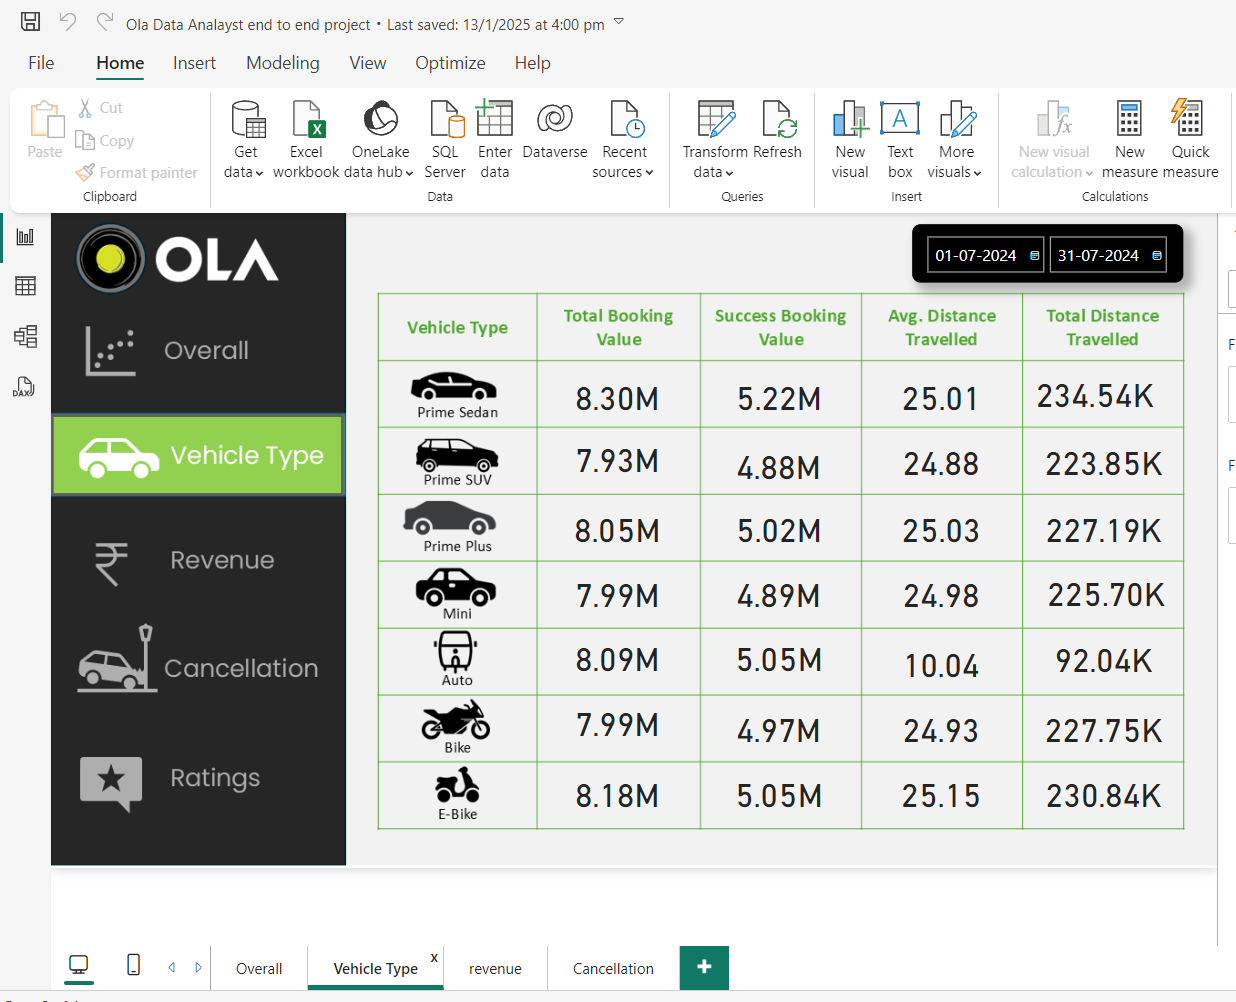

What the dashboard file says about the page in this screenshot:
{"tool":"powerbi","page":{"name":"Vehicle Type","canvas":[1280,720],"ordinal":1},"visuals":[{"type":"actionButton","box":[0,220.9,321.5,89.6],"z":0},{"type":"actionButton","box":[0,344.8,321.5,89.6],"z":1000},{"type":"actionButton","box":[0,451.5,321.5,89.6],"z":2000},{"type":"actionButton","box":[0,582.8,321.5,89.6],"z":3000},{"type":"actionButton","box":[0,111.7,321.5,89.6],"z":4000},{"type":"card","fields":{"Values":["Sum(Bookings-100000-Rows - July.Booking_Value)"]},"box":[715.5,165.3,168.2,71.3],"z":5000},{"type":"card","fields":{"Values":["Sum(Bookings-100000-Rows - July.Booking_Value)"]},"box":[537.4,233.8,168.2,71.3],"z":6000},{"type":"card","fields":{"Values":["Sum(Bookings-100000-Rows - July.Booking_Value)"]},"box":[537.4,310.7,168.2,71.3],"z":7000},{"type":"card","fields":{"Values":["Sum(Bookings-100000-Rows - July.Booking_Value)"]},"box":[537.4,382,168.2,71.3],"z":8000},{"type":"card","fields":{"Values":["Sum(Bookings-100000-Rows - July.Booking_Value)"]},"box":[537.4,451.8,168.2,71.3],"z":9000},{"type":"card","fields":{"Values":["Sum(Bookings-100000-Rows - July.Booking_Value)"]},"box":[537.4,523.1,168.2,71.3],"z":10000},{"type":"card","fields":{"Values":["Sum(Bookings-100000-Rows - July.Booking_Value)"]},"box":[537.4,601.5,168.2,71.3],"z":11000},{"type":"card","fields":{"Values":["Sum(Bookings-100000-Rows - July.Booking_Value)"]},"box":[537.4,165.3,168.2,71.3],"z":12000},{"type":"card","fields":{"Values":["Sum(Bookings-100000-Rows - July.Booking_Value)"]},"box":[715.5,239.5,168.2,71.3],"z":12001},{"type":"card","fields":{"Values":["Sum(Bookings-100000-Rows - July.Booking_Value)"]},"box":[715.5,310.7,168.2,71.3],"z":12002},{"type":"card","fields":{"Values":["Sum(Bookings-100000-Rows - July.Booking_Value)"]},"box":[715.5,382,168.2,71.3],"z":12003},{"type":"card","fields":{"Values":["Sum(Bookings-100000-Rows - July.Booking_Value)"]},"box":[715.5,451.8,168.2,71.3],"z":12004},{"type":"card","fields":{"Values":["Sum(Bookings-100000-Rows - July.Booking_Value)"]},"box":[715.5,530.2,168.2,71.3],"z":12005},{"type":"card","fields":{"Values":["Sum(Bookings-100000-Rows - July.Booking_Value)"]},"box":[715.5,601.5,168.2,71.3],"z":12006},{"type":"card","fields":{"Values":["Avg(Bookings-100000-Rows - July.Ride_Distance)"]},"box":[893.7,165.3,168.2,71.3],"z":12007},{"type":"card","fields":{"Values":["Avg(Bookings-100000-Rows - July.Ride_Distance)"]},"box":[893.7,236.6,168.2,71.3],"z":12008},{"type":"card","fields":{"Values":["Avg(Bookings-100000-Rows - July.Ride_Distance)"]},"box":[893.7,310.7,168.2,71.3],"z":12009},{"type":"card","fields":{"Values":["Avg(Bookings-100000-Rows - July.Ride_Distance)"]},"box":[893.7,382,168.2,71.3],"z":12010},{"type":"card","fields":{"Values":["Avg(Bookings-100000-Rows - July.Ride_Distance)"]},"box":[893.7,459,168.2,71.3],"z":12011},{"type":"card","fields":{"Values":["Avg(Bookings-100000-Rows - July.Ride_Distance)"]},"box":[893.7,530.2,168.2,71.3],"z":12012},{"type":"card","fields":{"Values":["Avg(Bookings-100000-Rows - July.Ride_Distance)"]},"box":[893.7,601.5,168.2,71.3],"z":12013},{"type":"card","fields":{"Values":["Sum(Bookings-100000-Rows - July.Ride_Distance)"]},"box":[1061.9,162.5,168.2,71.3],"z":12014},{"type":"card","fields":{"Values":["Sum(Bookings-100000-Rows - July.Ride_Distance)"]},"box":[1071.9,236.6,168.2,71.3],"z":12015},{"type":"card","fields":{"Values":["Sum(Bookings-100000-Rows - July.Ride_Distance)"]},"box":[1071.9,310.7,168.2,71.3],"z":12016},{"type":"card","fields":{"Values":["Sum(Bookings-100000-Rows - July.Ride_Distance)"]},"box":[1074.7,380.6,168.2,71.3],"z":12017},{"type":"card","fields":{"Values":["Sum(Bookings-100000-Rows - July.Ride_Distance)"]},"box":[1071.9,453.3,168.2,71.3],"z":12018},{"type":"card","fields":{"Values":["Sum(Bookings-100000-Rows - July.Ride_Distance)"]},"box":[1071.9,601.5,168.2,71.3],"z":12019},{"type":"card","fields":{"Values":["Sum(Bookings-100000-Rows - July.Ride_Distance)"]},"box":[1071.9,530.2,168.2,71.3],"z":12020},{"type":"slicer","title":"Date","fields":{"Values":["Bookings-100000-Rows - July.Date"]},"box":[945,12.8,297.9,64.1],"z":12021}]}

Visuals, with their boxes on the page's 1280x720 design canvas (x1, y1, x2, y2). These are canvas units, not pixel positions in the 1236x1002 screenshot, which may show the page scaled, cropped or inside an application window:
actionButton: 0, 221, 322, 310
actionButton: 0, 345, 322, 434
actionButton: 0, 452, 322, 541
actionButton: 0, 583, 322, 672
actionButton: 0, 112, 322, 201
card - Sum(Bookings-100000-Rows - July.Booking_Value): 716, 165, 884, 237
card - Sum(Bookings-100000-Rows - July.Booking_Value): 537, 234, 706, 305
card - Sum(Bookings-100000-Rows - July.Booking_Value): 537, 311, 706, 382
card - Sum(Bookings-100000-Rows - July.Booking_Value): 537, 382, 706, 453
card - Sum(Bookings-100000-Rows - July.Booking_Value): 537, 452, 706, 523
card - Sum(Bookings-100000-Rows - July.Booking_Value): 537, 523, 706, 594
card - Sum(Bookings-100000-Rows - July.Booking_Value): 537, 602, 706, 673
card - Sum(Bookings-100000-Rows - July.Booking_Value): 537, 165, 706, 237
card - Sum(Bookings-100000-Rows - July.Booking_Value): 716, 240, 884, 311
card - Sum(Bookings-100000-Rows - July.Booking_Value): 716, 311, 884, 382
card - Sum(Bookings-100000-Rows - July.Booking_Value): 716, 382, 884, 453
card - Sum(Bookings-100000-Rows - July.Booking_Value): 716, 452, 884, 523
card - Sum(Bookings-100000-Rows - July.Booking_Value): 716, 530, 884, 602
card - Sum(Bookings-100000-Rows - July.Booking_Value): 716, 602, 884, 673
card - Avg(Bookings-100000-Rows - July.Ride_Distance): 894, 165, 1062, 237
card - Avg(Bookings-100000-Rows - July.Ride_Distance): 894, 237, 1062, 308
card - Avg(Bookings-100000-Rows - July.Ride_Distance): 894, 311, 1062, 382
card - Avg(Bookings-100000-Rows - July.Ride_Distance): 894, 382, 1062, 453
card - Avg(Bookings-100000-Rows - July.Ride_Distance): 894, 459, 1062, 530
card - Avg(Bookings-100000-Rows - July.Ride_Distance): 894, 530, 1062, 602
card - Avg(Bookings-100000-Rows - July.Ride_Distance): 894, 602, 1062, 673
card - Sum(Bookings-100000-Rows - July.Ride_Distance): 1062, 162, 1230, 234
card - Sum(Bookings-100000-Rows - July.Ride_Distance): 1072, 237, 1240, 308
card - Sum(Bookings-100000-Rows - July.Ride_Distance): 1072, 311, 1240, 382
card - Sum(Bookings-100000-Rows - July.Ride_Distance): 1075, 381, 1243, 452
card - Sum(Bookings-100000-Rows - July.Ride_Distance): 1072, 453, 1240, 525
card - Sum(Bookings-100000-Rows - July.Ride_Distance): 1072, 602, 1240, 673
card - Sum(Bookings-100000-Rows - July.Ride_Distance): 1072, 530, 1240, 602
"Date" slicer: 945, 13, 1243, 77
